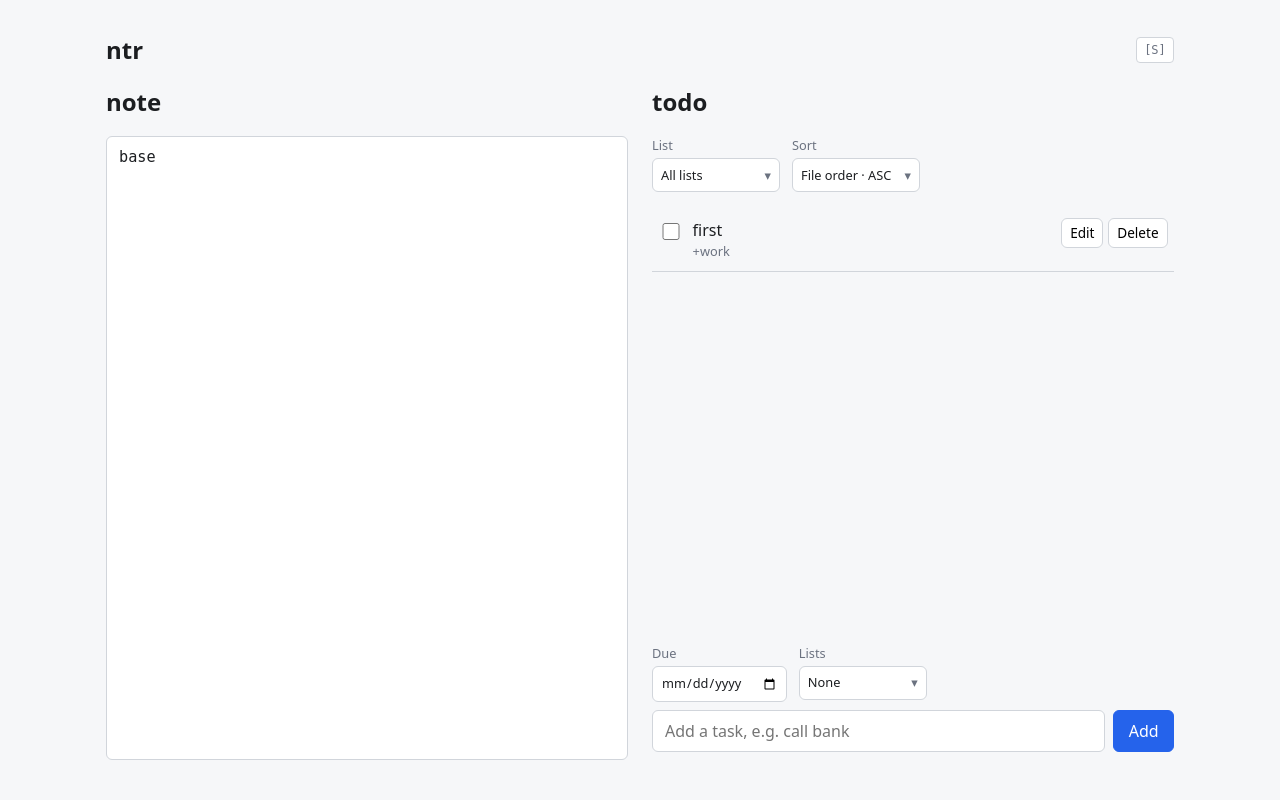
Scenario: approval across real panes › runs reconciliation on an actual destination change (ask)
Click the button named "settings" at (1155, 50), box [1136, 37, 1174, 63]
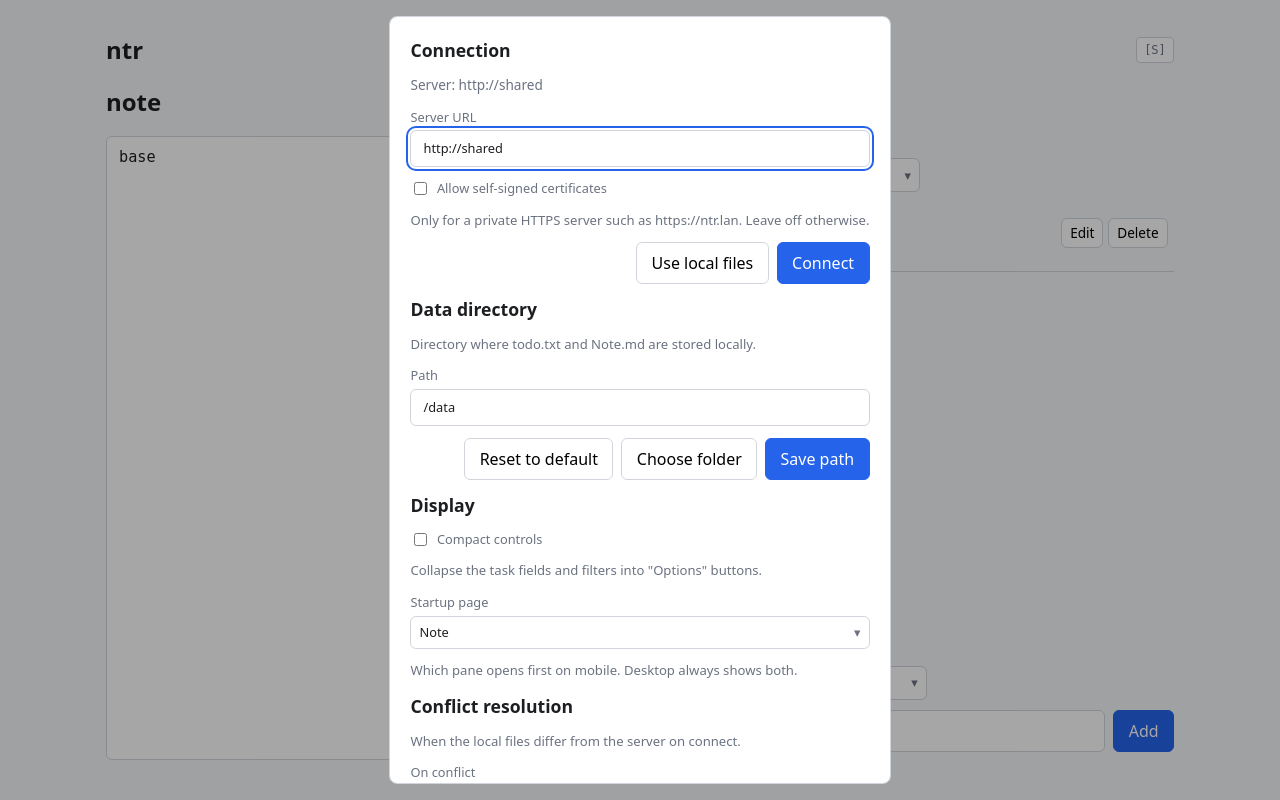
Replace the text in the field with placeholder "http://127.0.0.1:8080" with "http://other" at (640, 149), box [410, 130, 870, 167]
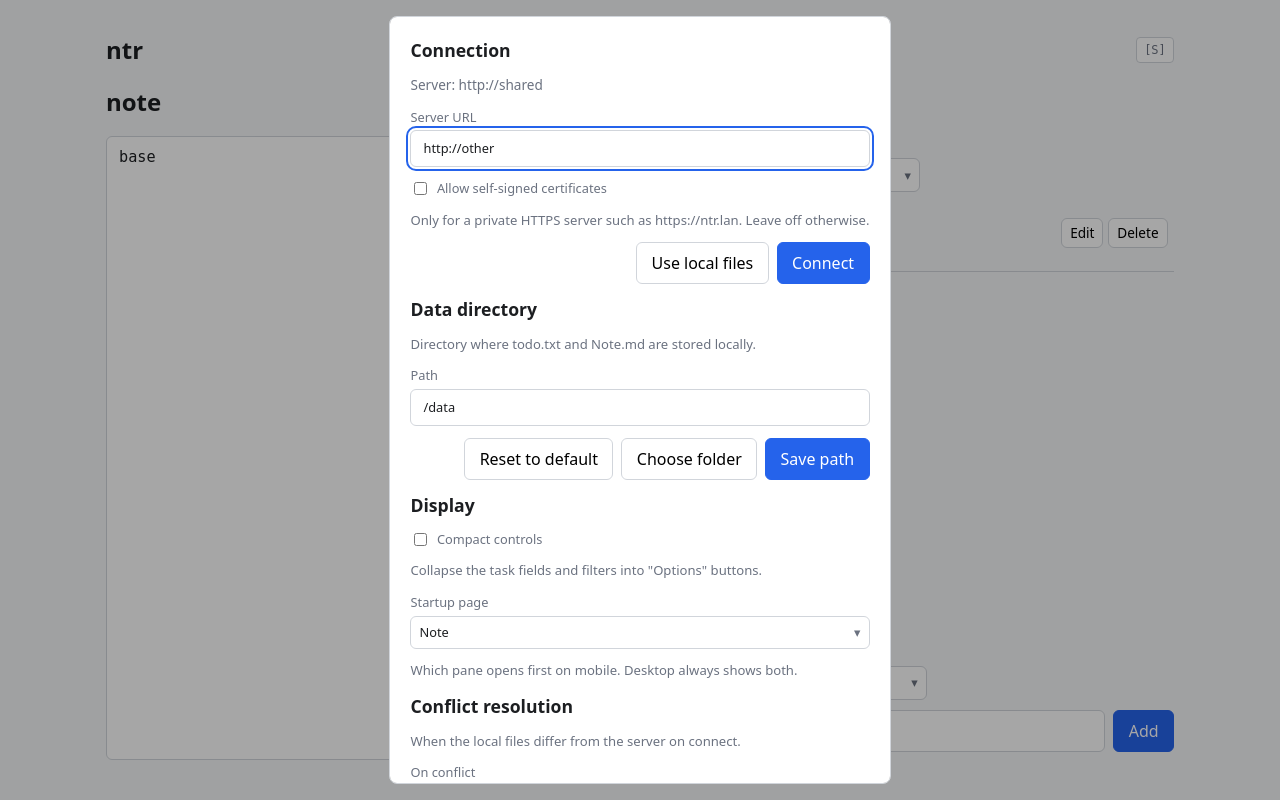
Click the button "Connect" at (823, 263), box [777, 242, 870, 284]
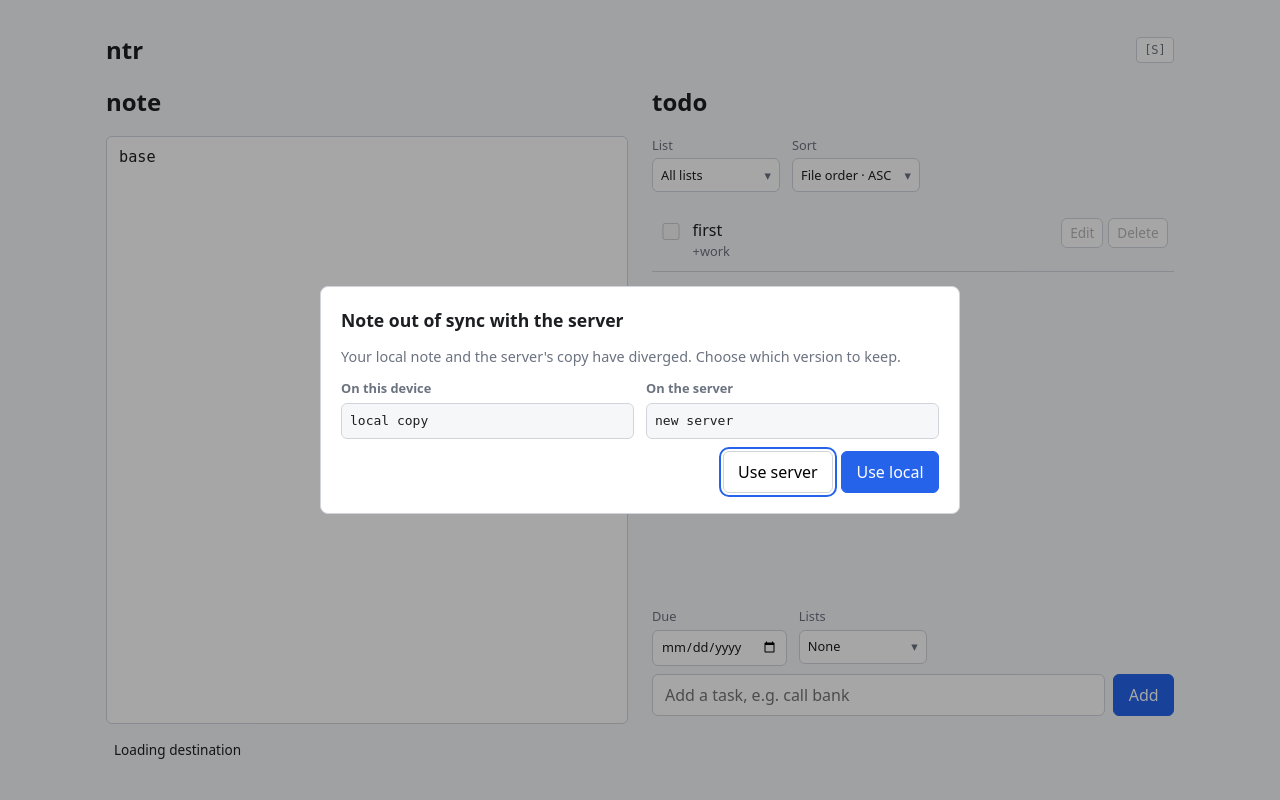
Click the button "Use local" at (890, 472), box [841, 451, 939, 493]
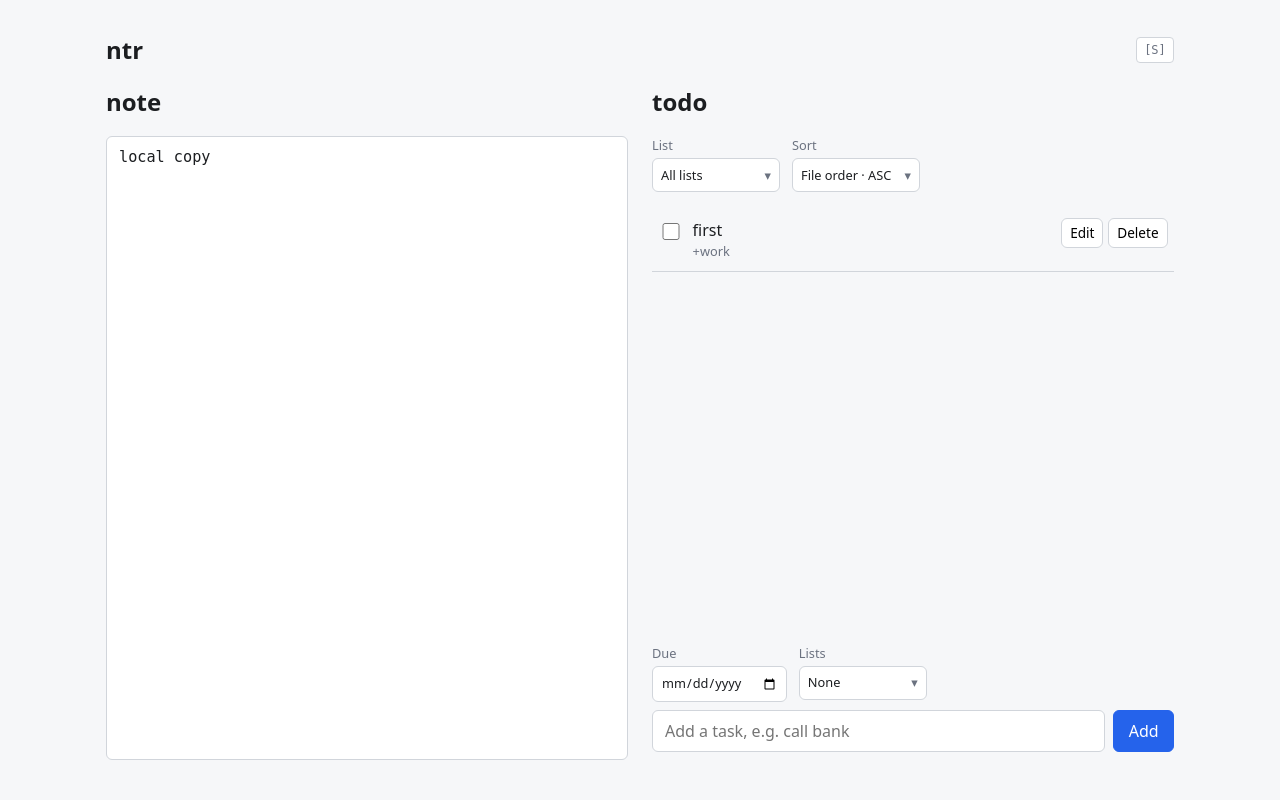
Expected: the text box labelled "local copy" is shown, [119, 148, 210, 166]
Expected: the field named "Note (Markdown)" reads "local copy", [106, 136, 628, 760]
